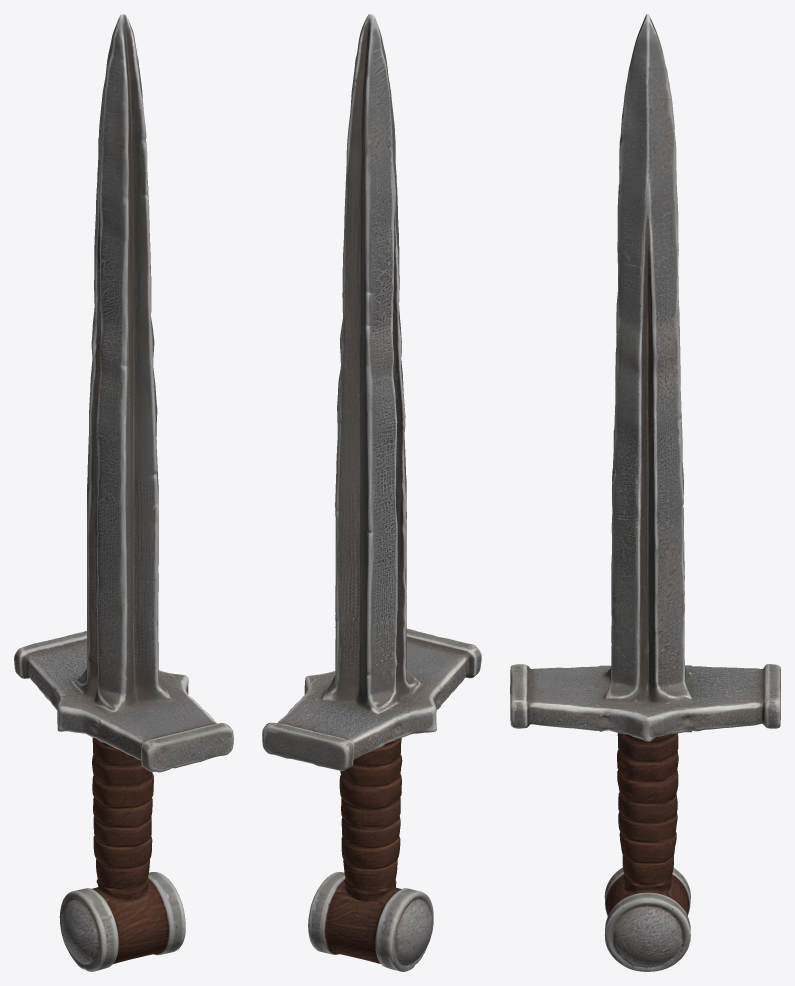
Rendered from sword_soldier.glb.
3 views of the same model, side by side, from view 1: azimuth 30°, elevation 25°; view 2: azimuth 150°, elevation 25°; view 3: azimuth 270°, elevation 25° (orthographic).
Parts seen in each view (by area): view 1: weapon; view 2: weapon; view 3: weapon.
Boxes of the visible parts, x1,y1,x2,y2 form: weapon: (14,14,233,971); weapon: (262,14,481,971); weapon: (510,14,780,971).
Size of the model in its own units: 0.1444 by 0.9999 by 0.2617.
Materials: 1 (1 with a texture image).
